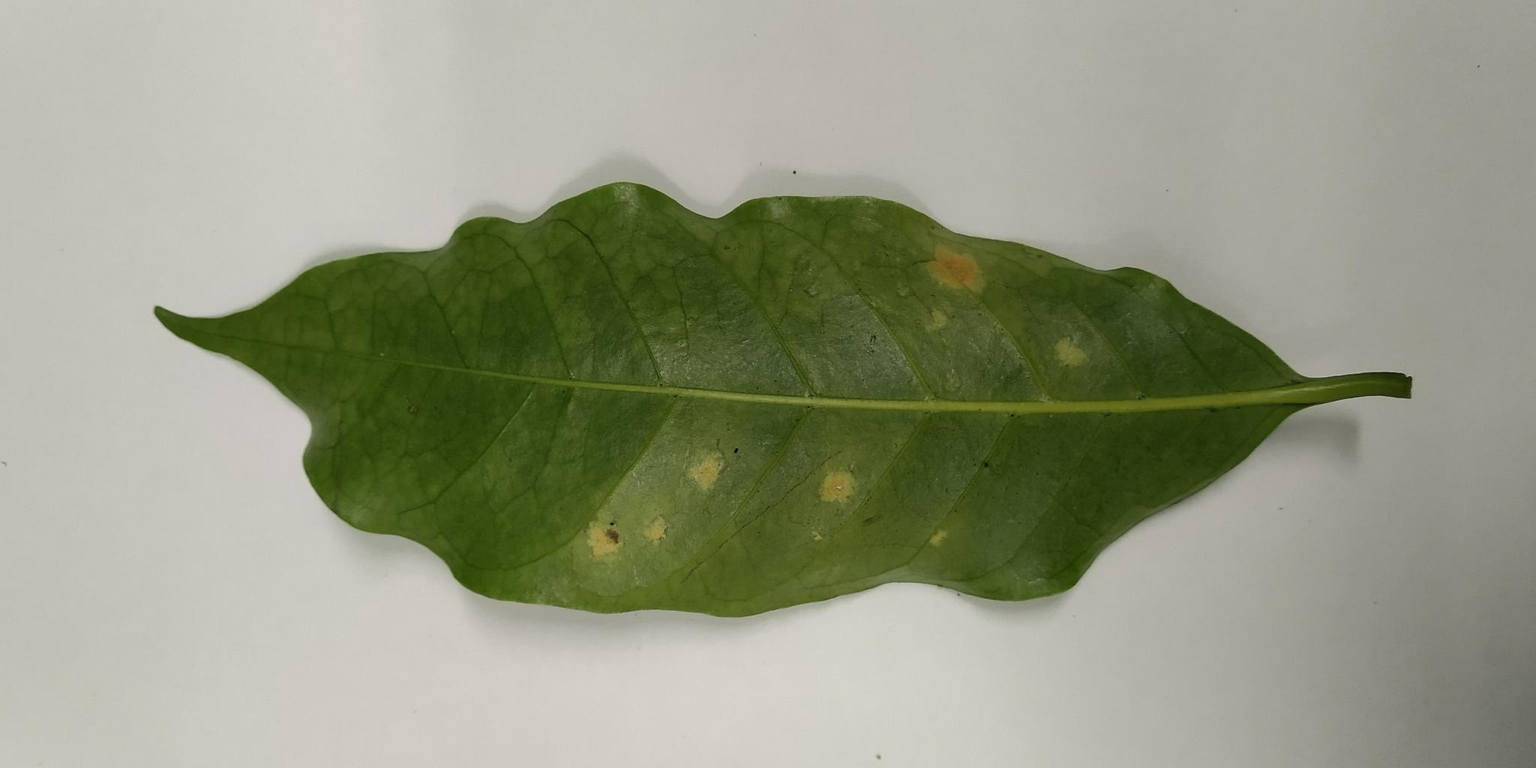Rust: (897, 209, 1008, 326)
